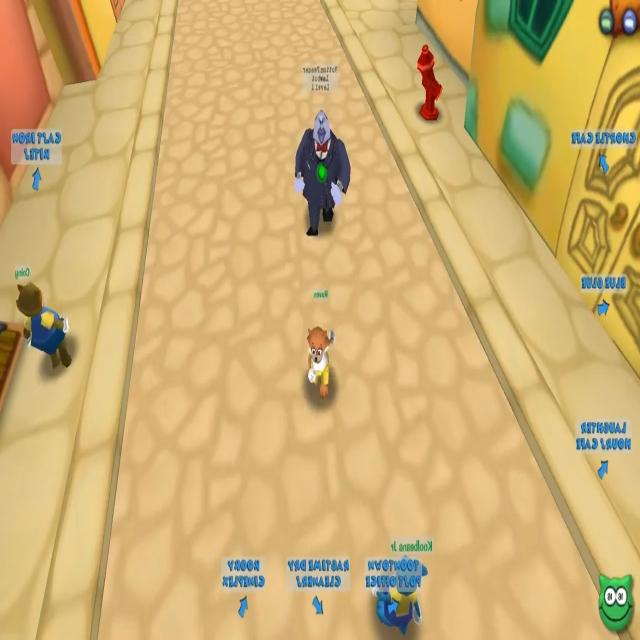bottomfeeder: (291, 91, 347, 241)
